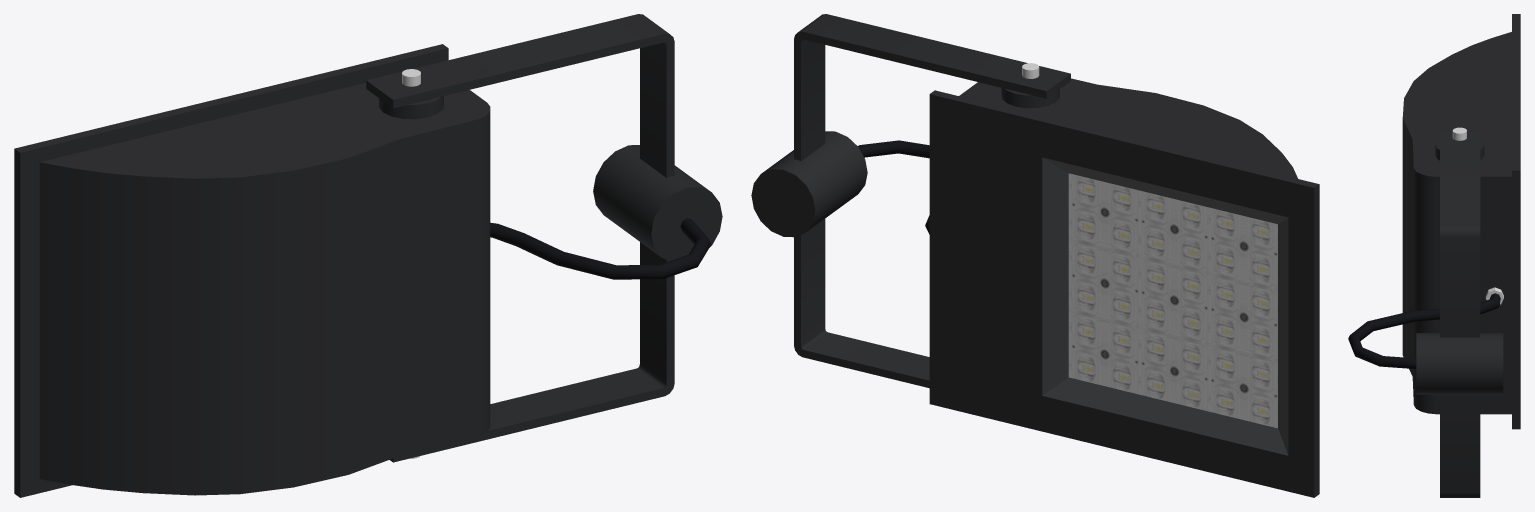
File: Moritz_II.obj
The picture shows the model from 3 angles, left to right: view 1: azimuth 30°, elevation 25°; view 2: azimuth 150°, elevation 25°; view 3: azimuth 270°, elevation 25°; orthographic projection. The views are drawn at different scales.
Visible parts, largest first — view 1: Gehaeuse, Halterung, Mastrohr, Kabel.001, Halteringe; view 2: Gehaeuse, Halterung, Mastrohr, Kabel.001, Halteringe; view 3: Gehaeuse, Halterung, Mastrohr, Kabel.001, Halteringe.
Part boxes in pixels (<box>): Gehaeuse: <box>14,44,490,497</box>; Halterung: <box>366,14,674,462</box>; Mastrohr: <box>593,145,722,261</box>; Kabel.001: <box>490,218,710,279</box>; Halteringe: <box>379,69,443,458</box>; Gehaeuse: <box>929,78,1319,497</box>; Halterung: <box>794,14,1070,388</box>; Mastrohr: <box>751,131,867,237</box>; Kabel.001: <box>858,140,929,234</box>; Halteringe: <box>1001,63,1059,108</box>; Gehaeuse: <box>1402,14,1520,429</box>; Halterung: <box>1440,126,1480,497</box>; Mastrohr: <box>1416,333,1503,394</box>; Kabel.001: <box>1348,293,1500,368</box>; Halteringe: <box>1435,127,1484,160</box>.
Size of the model in its own units: 0.7605 by 0.4345 by 0.2377.
5 materials, 4 textured.
